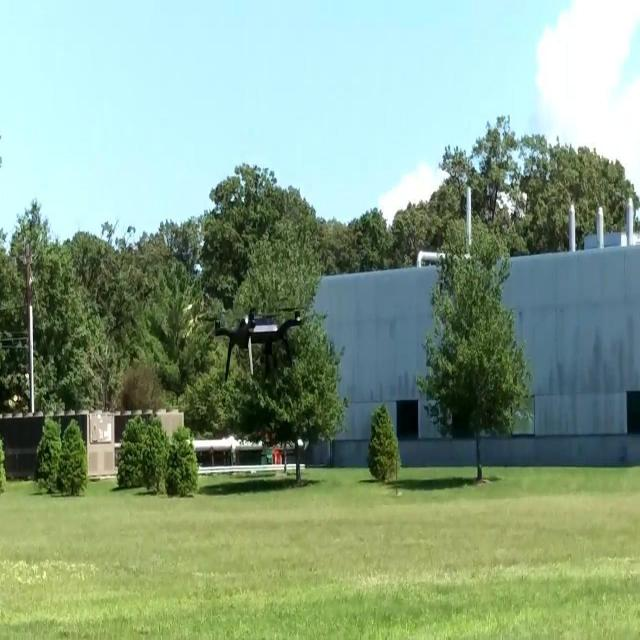UAV: (204, 308, 302, 382)
